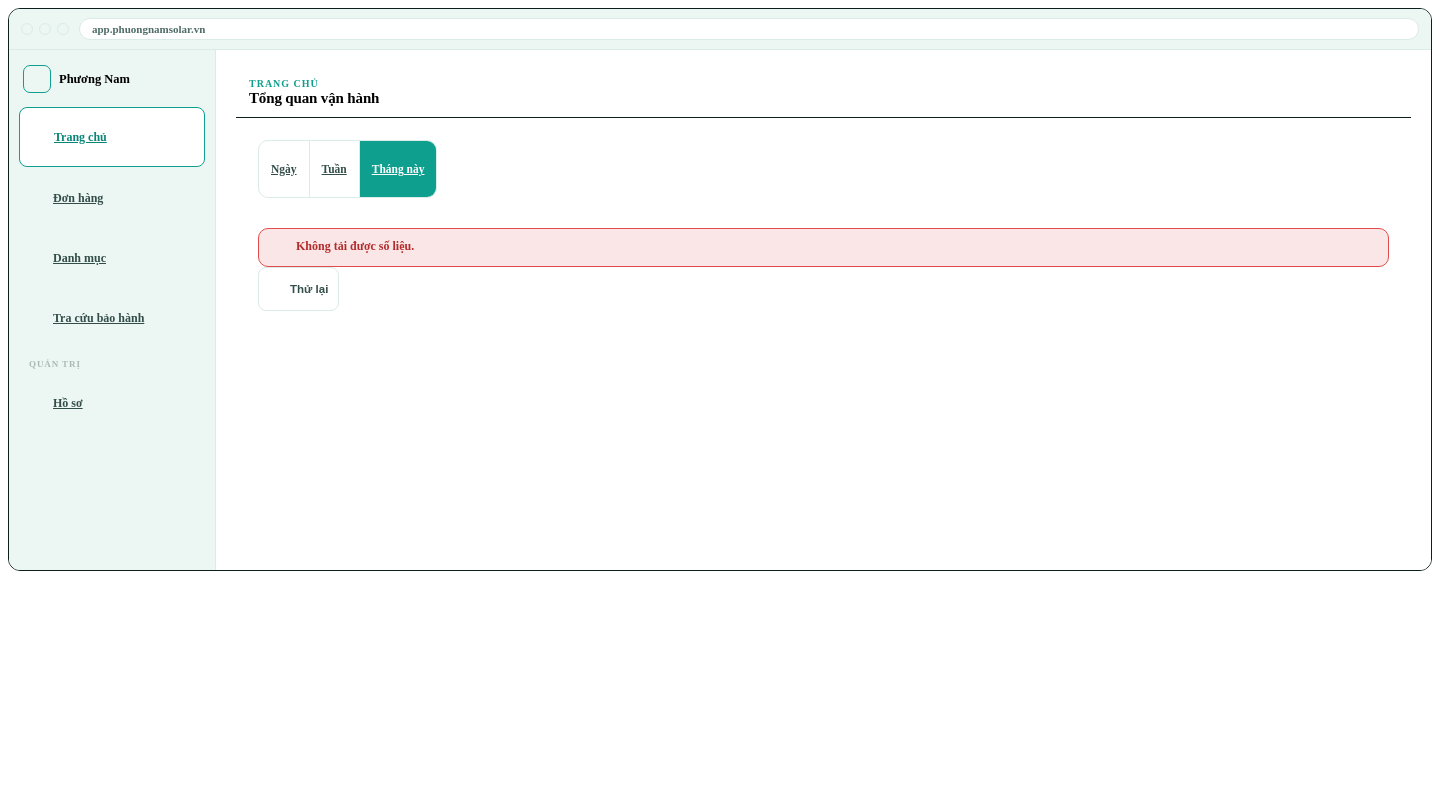
Test: DashboardScreen › a port error shows ErrorState and Thử lại asks again
This screenshot has width=1440, height=810.
Click the button "Thử lại" at (299, 289), box [258, 267, 339, 311]
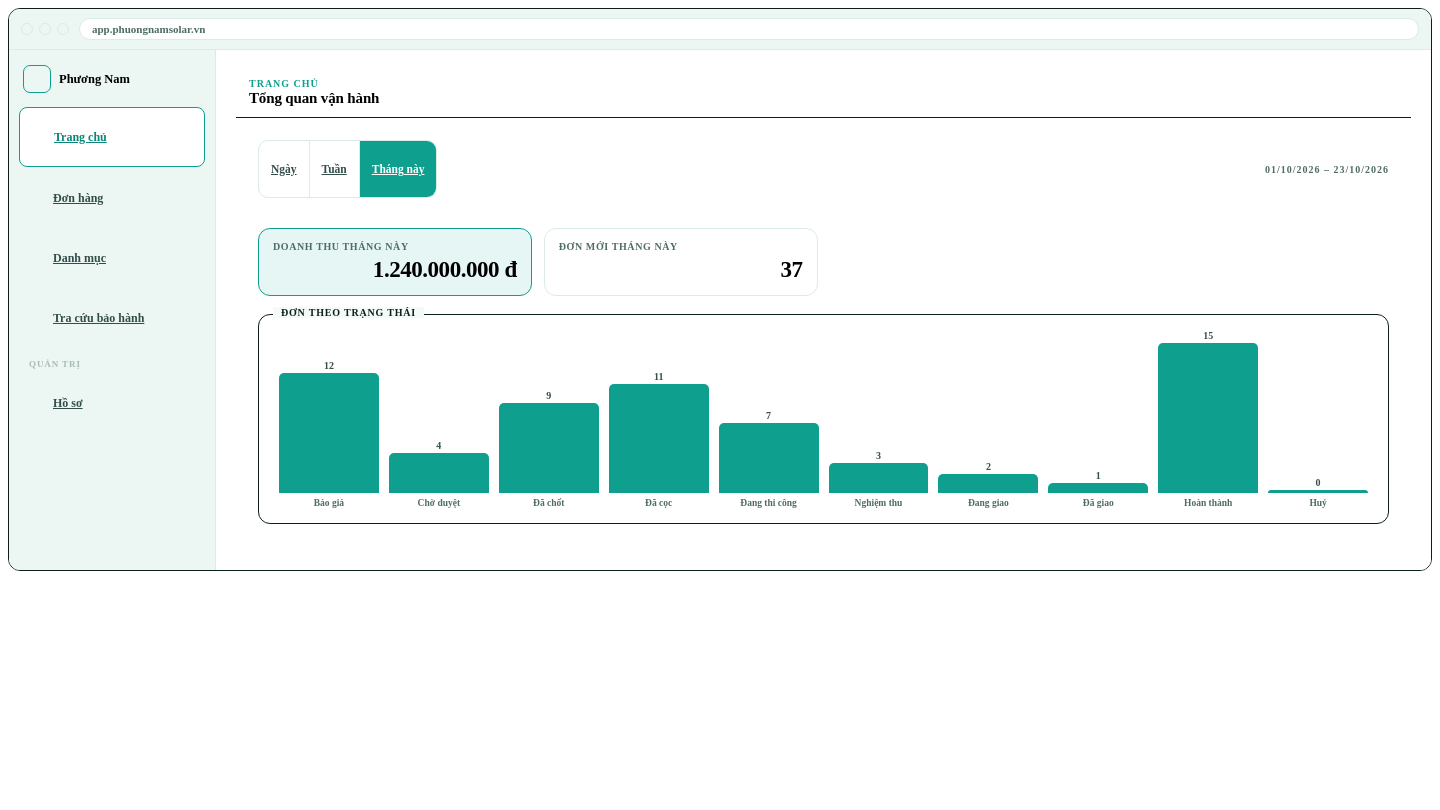
Now the text "1.240.000.000 đ" is shown, box [373, 257, 517, 282]
